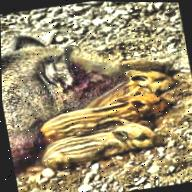boar: (0, 18, 190, 146), (42, 89, 186, 146), (49, 115, 169, 179), (81, 59, 187, 109)
